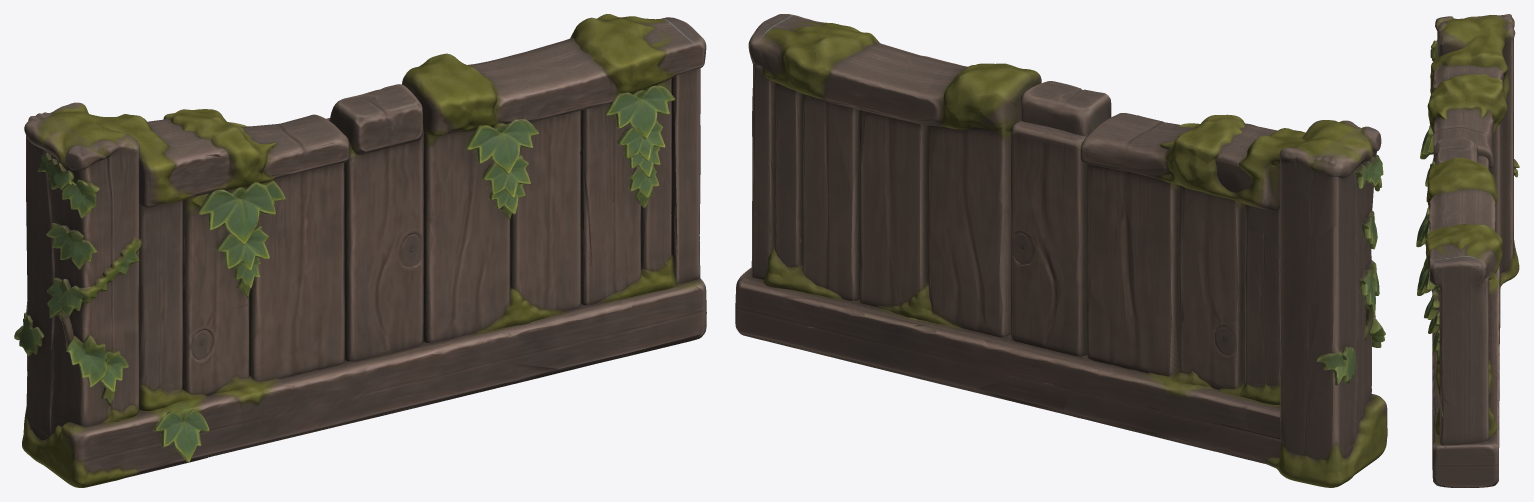
The model's file is wall-02.obj.
3 renders of one model, left to right at view 1: azimuth 30°, elevation 25°; view 2: azimuth 150°, elevation 25°; view 3: azimuth 270°, elevation 25°, orthographic. The views are drawn at different scales.
Parts seen in each view (by area): view 1: Meshy_AI_Ivy_Covered_Wooden_Fe_0919052916_texture; view 2: Meshy_AI_Ivy_Covered_Wooden_Fe_0919052916_texture; view 3: Meshy_AI_Ivy_Covered_Wooden_Fe_0919052916_texture.
Boxes of the visible parts, x1,y1,x2,y2 form: Meshy_AI_Ivy_Covered_Wooden_Fe_0919052916_texture: (14, 14, 706, 487); Meshy_AI_Ivy_Covered_Wooden_Fe_0919052916_texture: (735, 14, 1387, 487); Meshy_AI_Ivy_Covered_Wooden_Fe_0919052916_texture: (1416, 14, 1519, 487).
Bounding box in the file's own units: 1.9 × 0.9748 × 0.362.
Materials: 1 (1 with a texture image).
